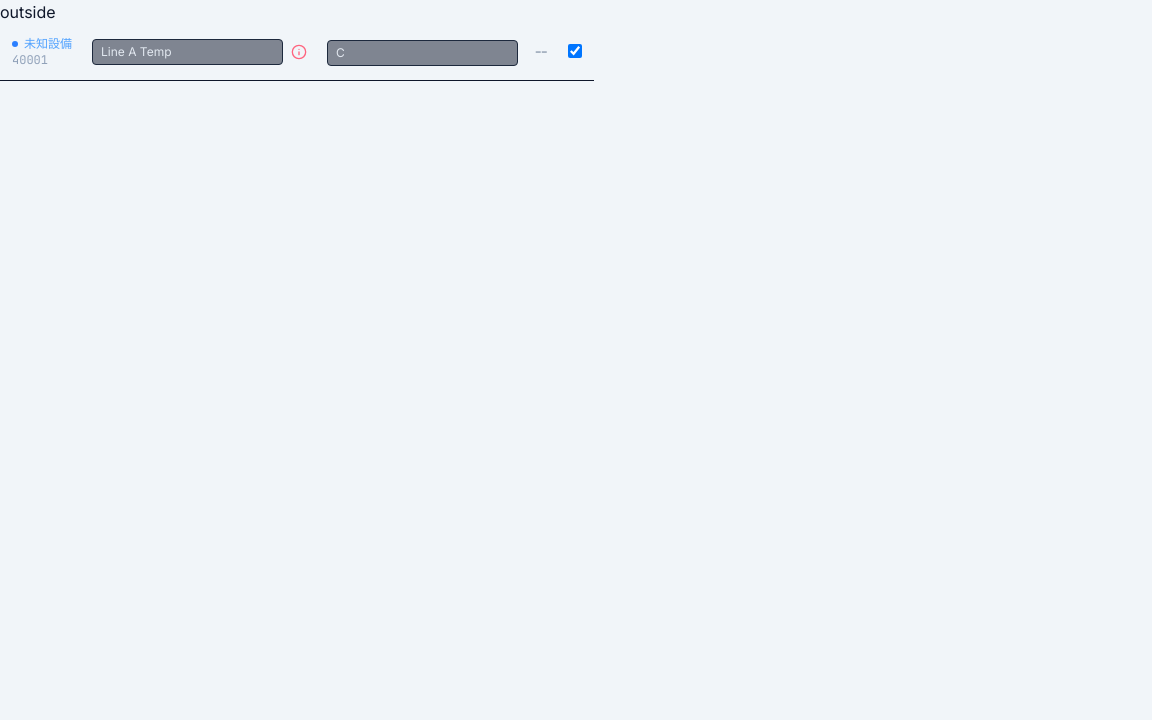
uses a status-specific icon for draft-invalid
Focus the button named "草稿需要修正": (299, 52) 287,40 -> 311,64
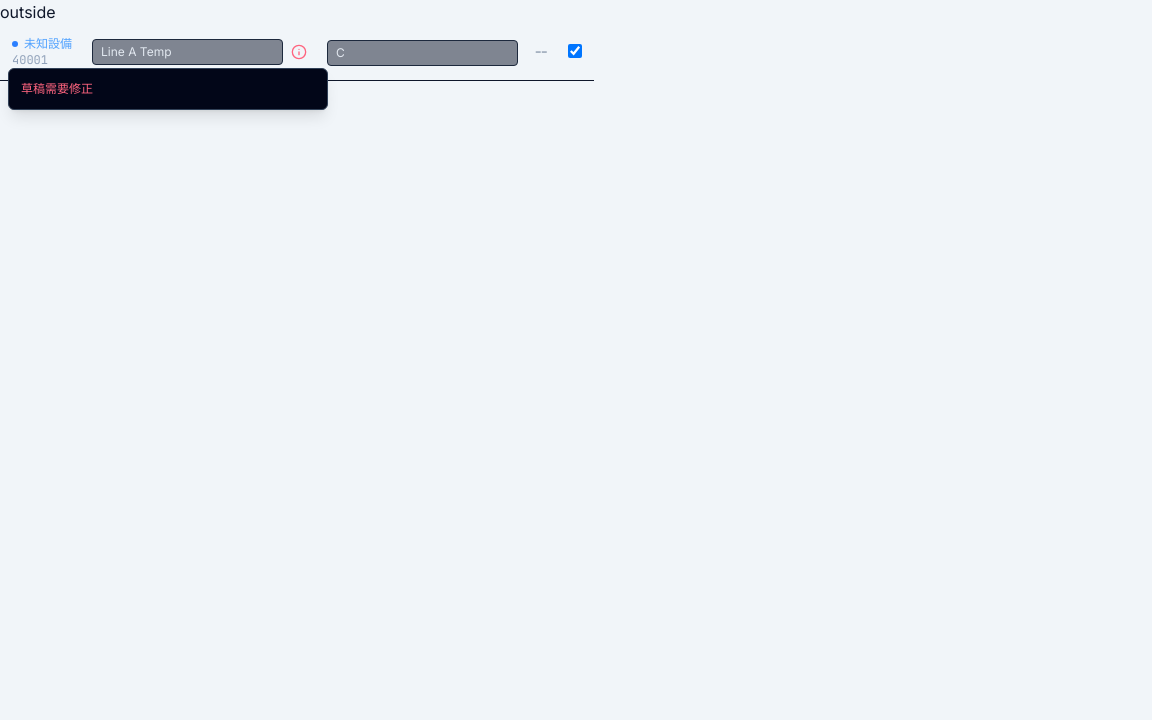
Now the dialog is shown, box 8,68 -> 328,110
